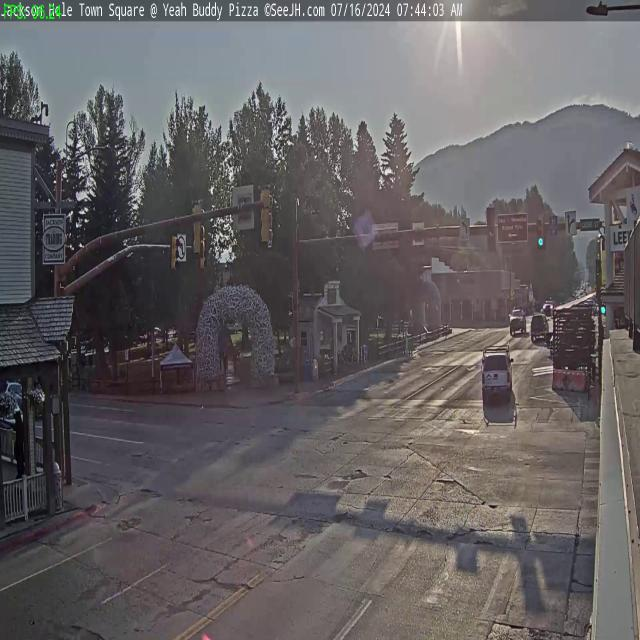traffic light: (190, 200, 204, 259), (260, 185, 272, 245), (486, 207, 496, 250), (170, 234, 180, 273), (537, 215, 545, 248)
truck: (480, 346, 514, 404)
